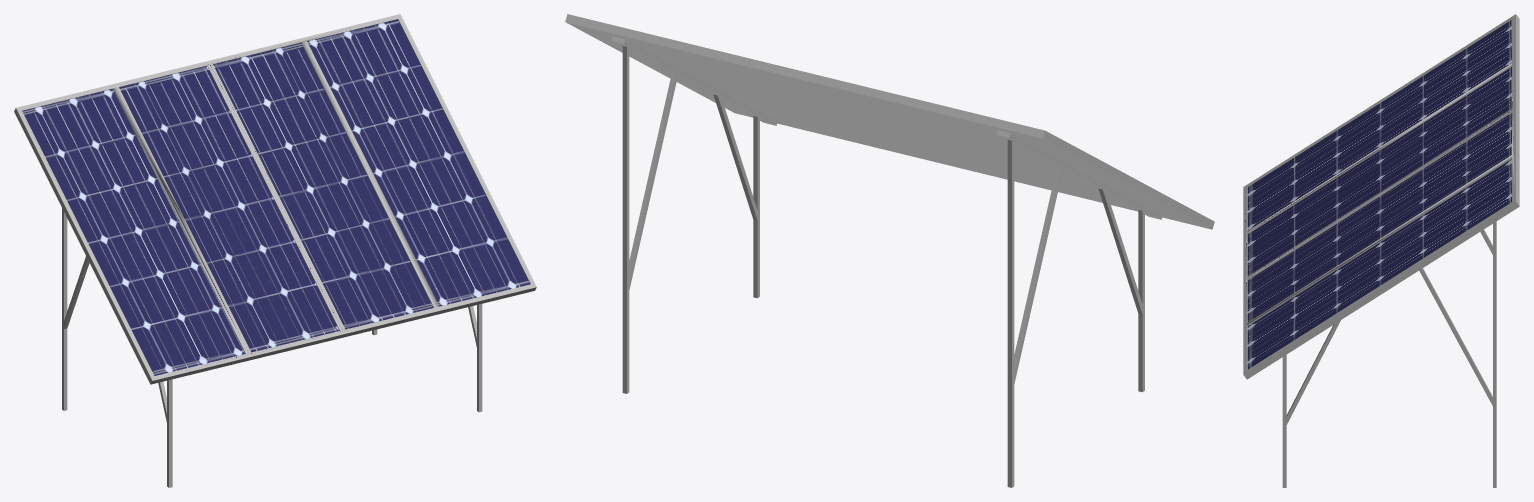
3 renders of one model, left to right at view 1: azimuth 30°, elevation 25°; view 2: azimuth 150°, elevation 25°; view 3: azimuth 270°, elevation 25°, orthographic. The views are drawn at different scales.
Visible parts, largest first — view 1: Rectangle001, Line001, Line003, Line006; view 2: Rectangle001, Line001, Line005, Line008, Line002, Rectangle003, Rectangle002, Line003, Line006, Line007, Line004; view 3: Rectangle001, Line005, Line008, Line006, Line007.
Boxes of the visible parts, bbox=[...] form: Rectangle001: bbox=[14, 14, 536, 384]; Line001: bbox=[62, 208, 67, 410]; Line003: bbox=[167, 379, 172, 487]; Line006: bbox=[477, 304, 482, 412]; Rectangle001: bbox=[565, 14, 1214, 229]; Line001: bbox=[1007, 140, 1014, 487]; Line005: bbox=[622, 46, 629, 393]; Line008: bbox=[627, 72, 678, 290]; Line002: bbox=[1012, 166, 1063, 384]; Rectangle003: bbox=[996, 130, 1162, 219]; Rectangle002: bbox=[611, 36, 777, 125]; Line003: bbox=[1138, 210, 1144, 392]; Line006: bbox=[753, 116, 759, 298]; Line007: bbox=[713, 94, 759, 220]; Line004: bbox=[1098, 188, 1142, 314]; Rectangle001: bbox=[1243, 14, 1519, 379]; Line005: bbox=[1493, 221, 1496, 487]; Line008: bbox=[1419, 268, 1495, 406]; Line006: bbox=[1282, 355, 1286, 487]; Line007: bbox=[1283, 320, 1340, 425].
Size of the model in its own units: 5.61 by 4.23 by 3.49.
3 materials, 1 textured.
